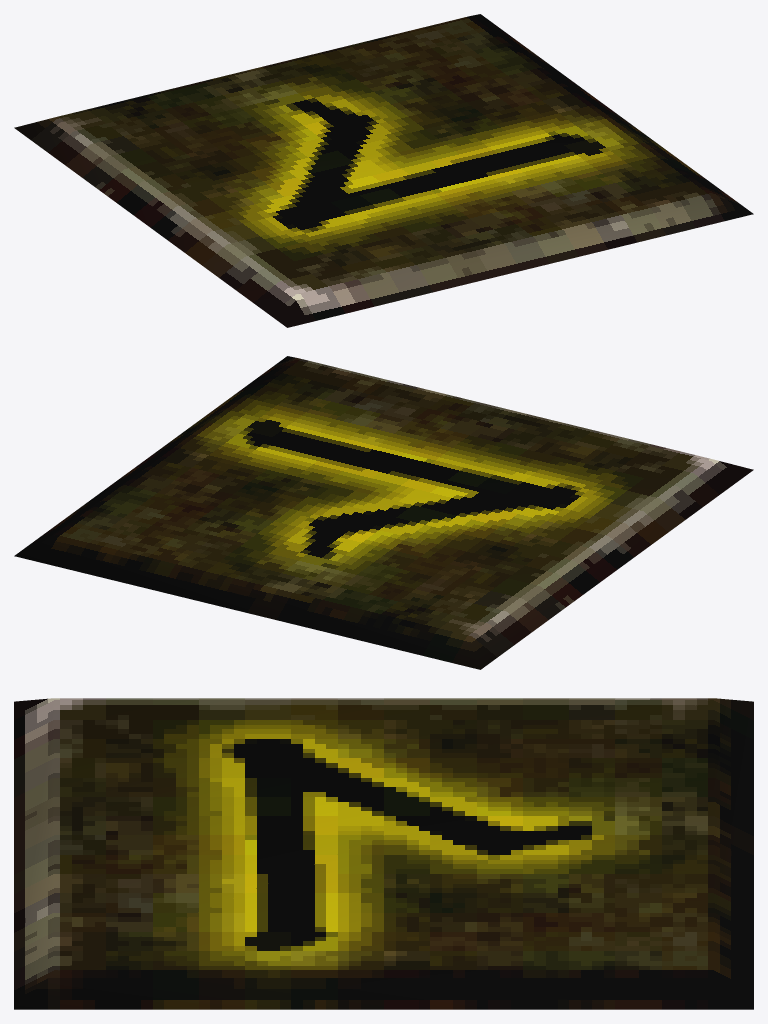
Rendered from EREBOR_RUNE_PZL_EREBOR_PZL_TILE_ACTIVE05.fbx.
The picture shows the model from 3 angles, top to bottom: view 1: azimuth 30°, elevation 25°; view 2: azimuth 150°, elevation 25°; view 3: azimuth 270°, elevation 25°; orthographic projection. The views are drawn at different scales.
Visible parts, largest first — view 1: EREBOR_RUNE_PZL_EREBOR_PZL_TILE_ACTIVE05; view 2: EREBOR_RUNE_PZL_EREBOR_PZL_TILE_ACTIVE05; view 3: EREBOR_RUNE_PZL_EREBOR_PZL_TILE_ACTIVE05.
Part boxes in pixels (box(x1,y1,x2,y2)): EREBOR_RUNE_PZL_EREBOR_PZL_TILE_ACTIVE05: box(14, 14, 753, 327); EREBOR_RUNE_PZL_EREBOR_PZL_TILE_ACTIVE05: box(14, 356, 753, 669); EREBOR_RUNE_PZL_EREBOR_PZL_TILE_ACTIVE05: box(14, 698, 753, 1009).
Bounding box in the file's own units: 9945 × 305 × 10093.
Materials: 1 (1 with a texture image).
